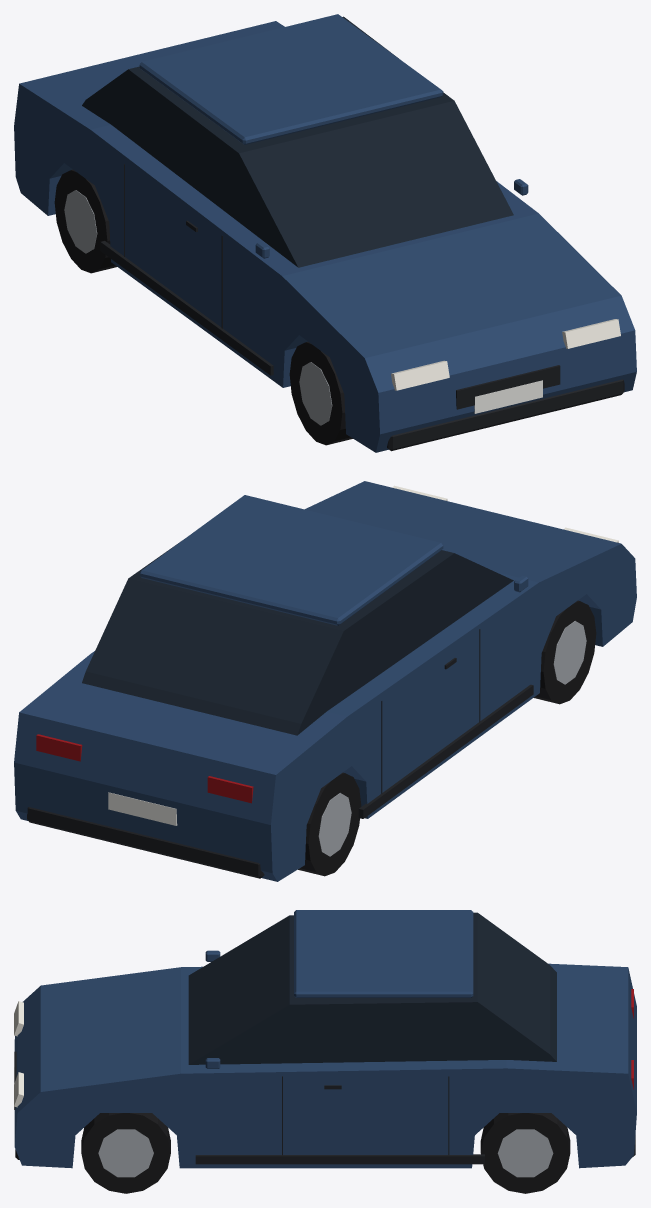
Rendered from car.glb.
3 views of the same model, one above another, from view 1: azimuth 30°, elevation 25°; view 2: azimuth 150°, elevation 25°; view 3: azimuth 270°, elevation 25° (orthographic). The views are drawn at different scales.
Parts seen in each view (by area): view 1: car; view 2: car; view 3: car.
Part boxes in pixels (x1,y1,x2,y2): car: (14,14,636,452); car: (14,481,636,881); car: (14,910,636,1193).
Size of the model in its own units: 1.8 by 1.45 by 4.3.
